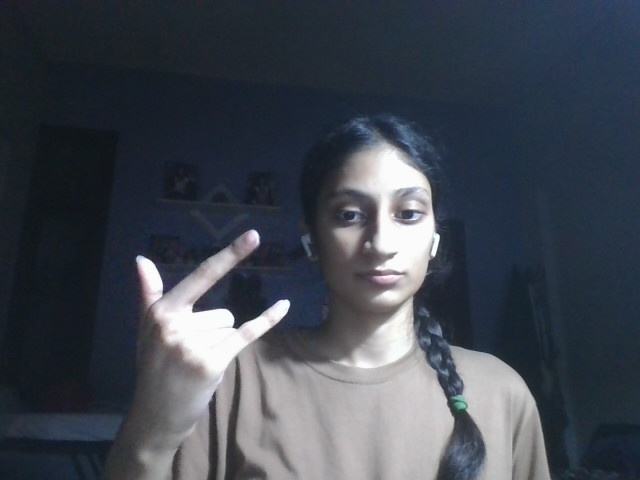i love you: (130, 227, 293, 438)
